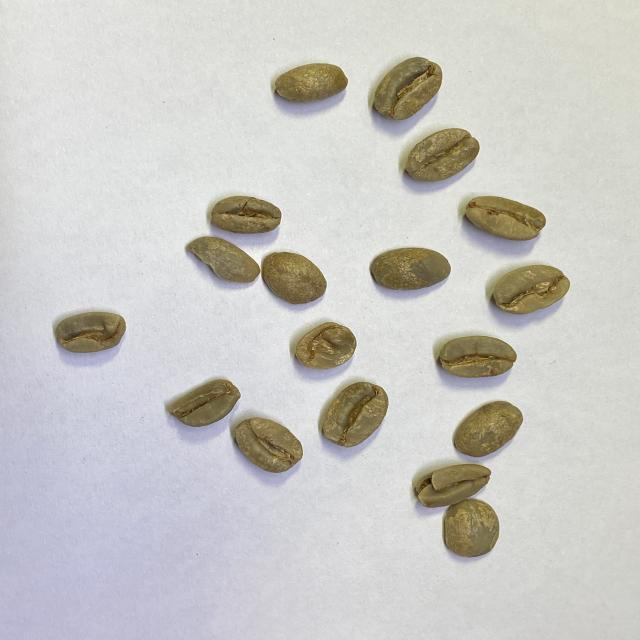bad: (164, 379, 241, 427), (186, 235, 260, 284), (413, 464, 491, 508), (294, 322, 356, 369), (56, 312, 126, 352)
good: (372, 55, 444, 122), (321, 381, 389, 448), (405, 128, 480, 186), (451, 400, 524, 456), (494, 264, 572, 315), (235, 418, 304, 473), (464, 195, 546, 240), (369, 247, 454, 290), (258, 251, 326, 304), (441, 498, 499, 558), (438, 336, 518, 378), (209, 196, 283, 235), (275, 63, 348, 102)
